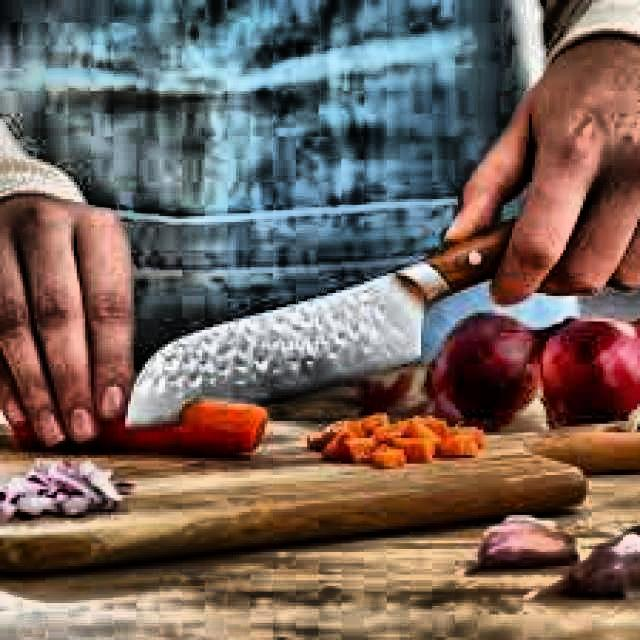knife: (119, 210, 532, 434)
